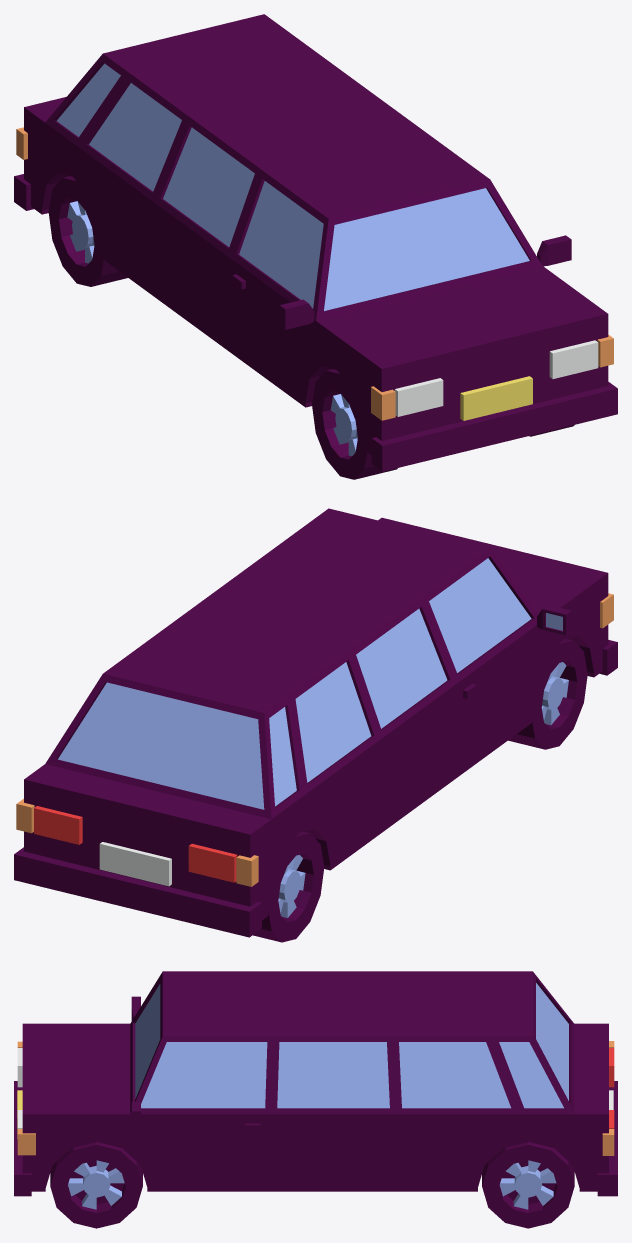
The model's file is car4.glb.
3 renders of one model, top to bottom at view 1: azimuth 30°, elevation 25°; view 2: azimuth 150°, elevation 25°; view 3: azimuth 270°, elevation 25°, orthographic. The views are drawn at different scales.
Visible parts, largest first — view 1: car.012; view 2: car.012; view 3: car.012.
Part boxes in pixels (box(x1,y1,x2,y2)): car.012: box(14, 14, 617, 479); car.012: box(14, 508, 617, 942); car.012: box(14, 971, 617, 1228).
Size of the model in its own units: 1.35 by 0.9974 by 3.02.
1 material, 1 textured.
